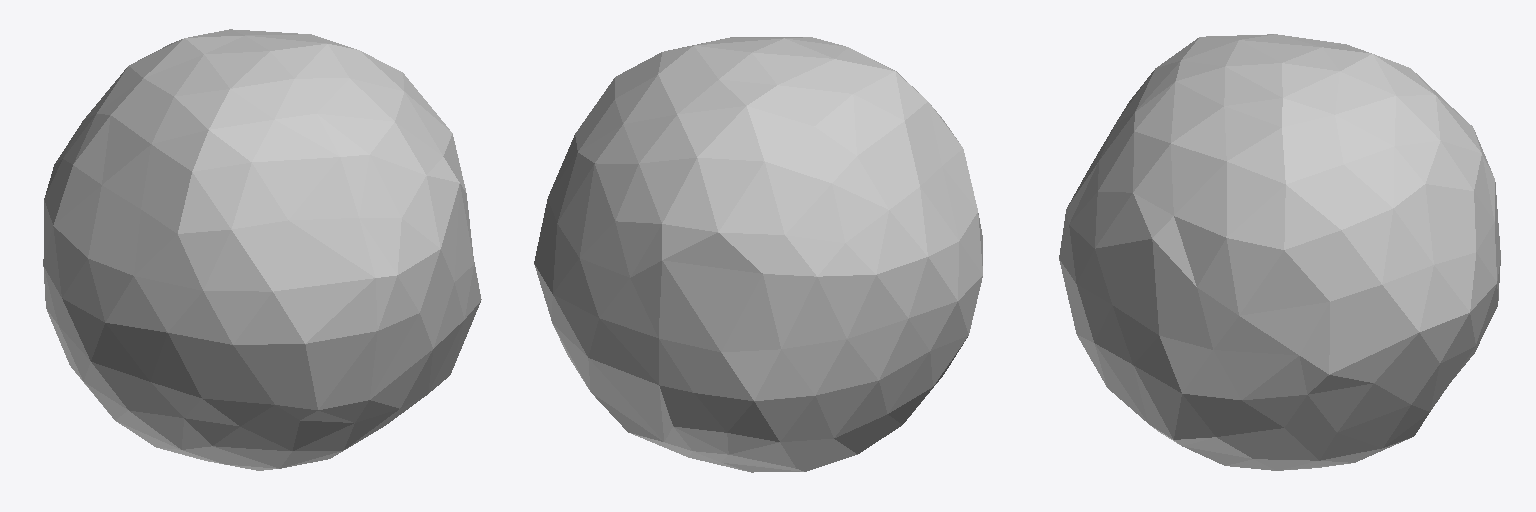
The model's file is P_Ball_Paper_MF.obj.
3 renders of one model, left to right at view 1: azimuth 30°, elevation 25°; view 2: azimuth 150°, elevation 25°; view 3: azimuth 270°, elevation 25°, orthographic.
Parts seen in each view (by area): view 1: P_Ball_Paper_MF; view 2: P_Ball_Paper_MF; view 3: P_Ball_Paper_MF.
Part boxes in pixels (bbox=[...]): P_Ball_Paper_MF: bbox=[43, 29, 481, 470]; P_Ball_Paper_MF: bbox=[534, 37, 982, 472]; P_Ball_Paper_MF: bbox=[1059, 34, 1500, 470].
Bounding box in the file's own units: 4.01 × 4 × 4.